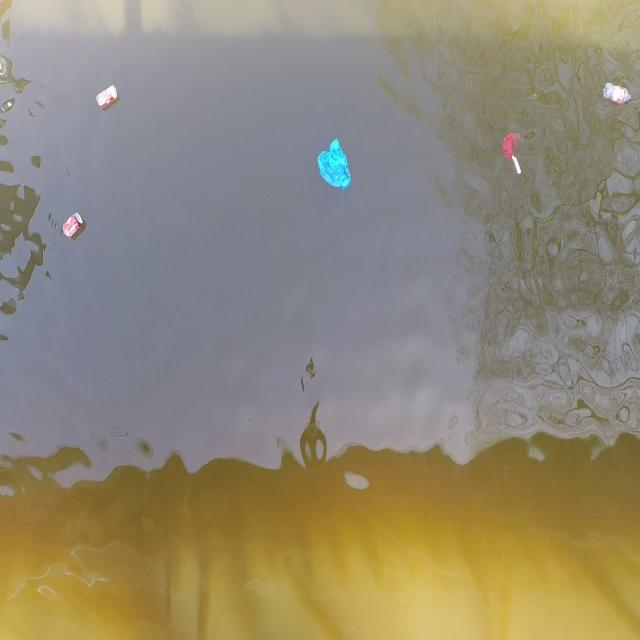Bouteille plastique: (599, 78, 634, 112)
Non plastique: (60, 204, 87, 244), (94, 79, 120, 113)
Sac plastique: (310, 132, 356, 196), (495, 128, 522, 165)
